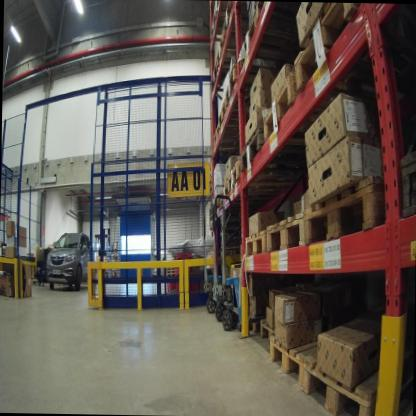forklift: (86, 219, 119, 288)
pallet: (293, 2, 373, 95), (302, 329, 387, 416), (304, 164, 390, 249), (262, 330, 336, 400), (238, 124, 326, 175), (228, 157, 313, 199), (261, 69, 304, 145), (220, 59, 285, 108), (265, 205, 306, 258), (240, 1, 276, 59), (393, 136, 416, 226), (212, 97, 263, 133), (221, 0, 269, 35), (216, 31, 255, 68), (242, 218, 271, 265), (210, 125, 257, 150), (213, 61, 247, 94), (206, 2, 226, 50), (260, 314, 283, 342), (246, 306, 262, 333), (218, 189, 229, 208), (205, 158, 212, 176), (208, 190, 213, 208), (207, 205, 214, 215), (165, 271, 176, 277), (208, 184, 214, 194), (208, 169, 213, 180), (165, 265, 175, 270), (166, 270, 175, 274)
pallet_truck: (211, 183, 244, 333), (200, 210, 226, 318), (209, 199, 225, 323)
small_load_carrier: (173, 250, 192, 280), (176, 272, 197, 297), (165, 273, 177, 297)
